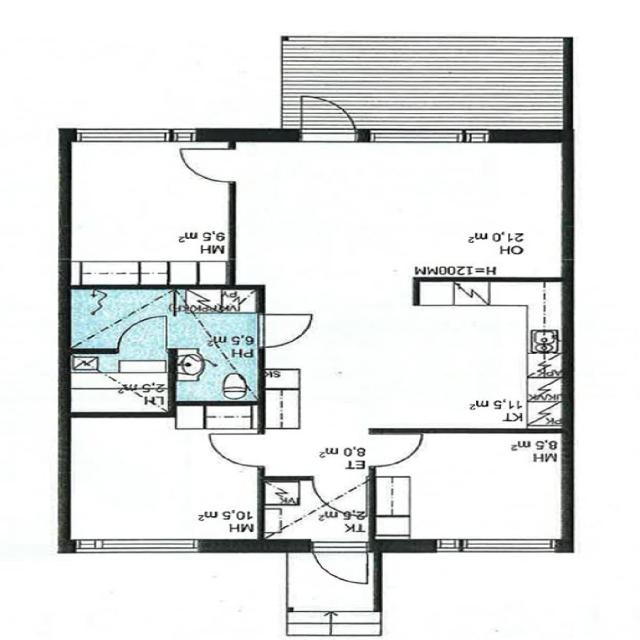door: (80, 413, 264, 535), (293, 90, 360, 139), (362, 428, 430, 470), (308, 540, 370, 586), (175, 142, 239, 185), (203, 429, 266, 470), (253, 311, 316, 349), (115, 314, 170, 356)
window: (436, 534, 564, 558), (74, 536, 206, 558), (69, 124, 177, 144), (365, 127, 471, 147), (429, 538, 468, 554)
zone: (229, 136, 569, 288), (262, 288, 563, 428), (64, 410, 262, 548), (64, 140, 233, 288), (372, 429, 568, 547), (170, 287, 260, 402), (63, 352, 173, 413), (68, 288, 170, 350)
